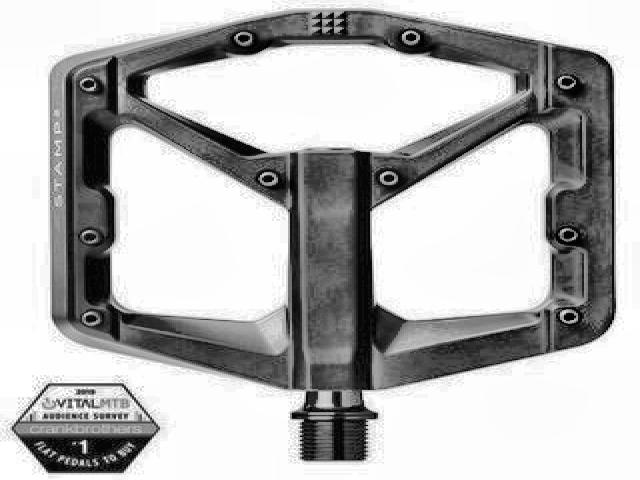pedal: (43, 9, 616, 462)
